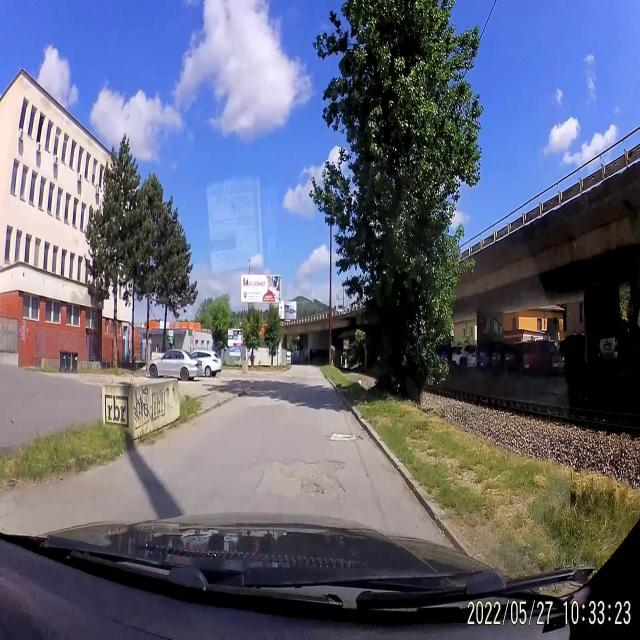Pothole: (284, 457, 349, 498), (328, 428, 362, 448)
